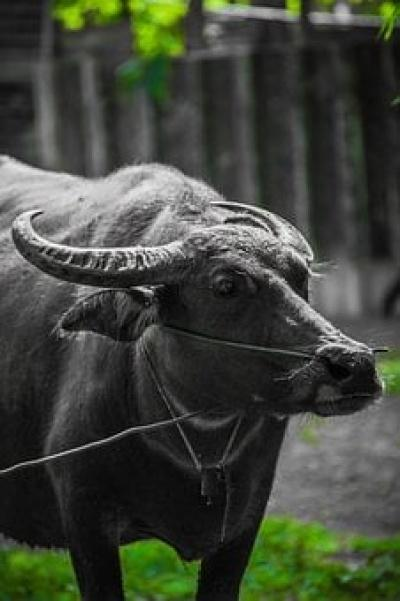buffalo: (0, 161, 383, 601)
